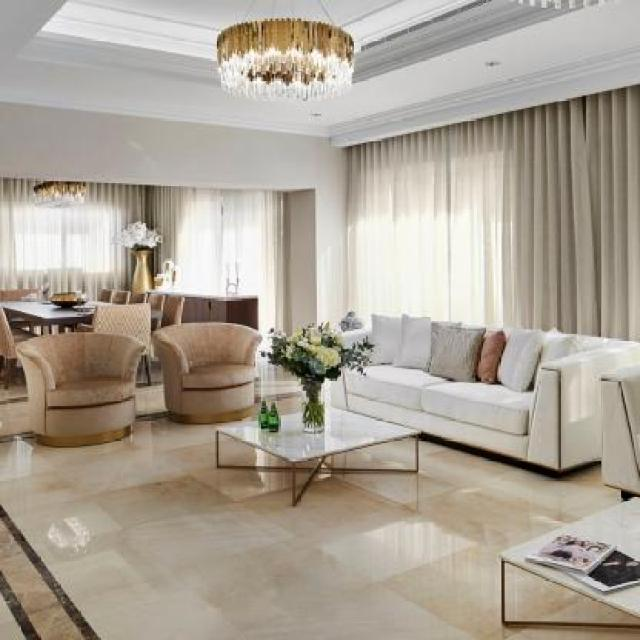floor: (0, 413, 640, 640)
